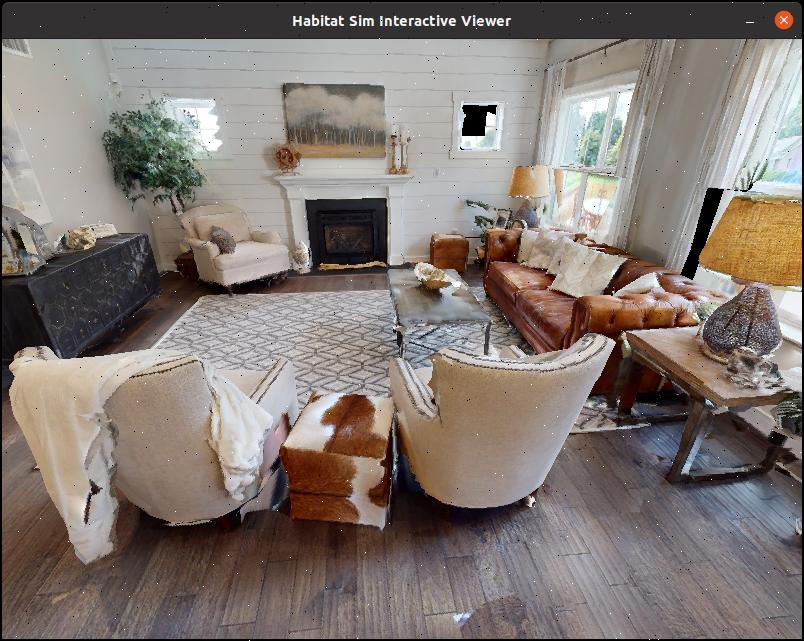sofa: (470, 216, 718, 420)
table: (374, 253, 515, 367)
